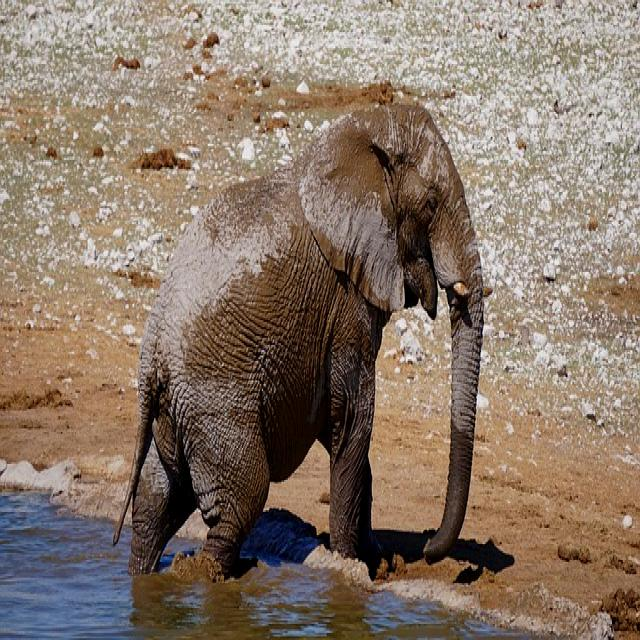FIL: (122, 86, 483, 585)
